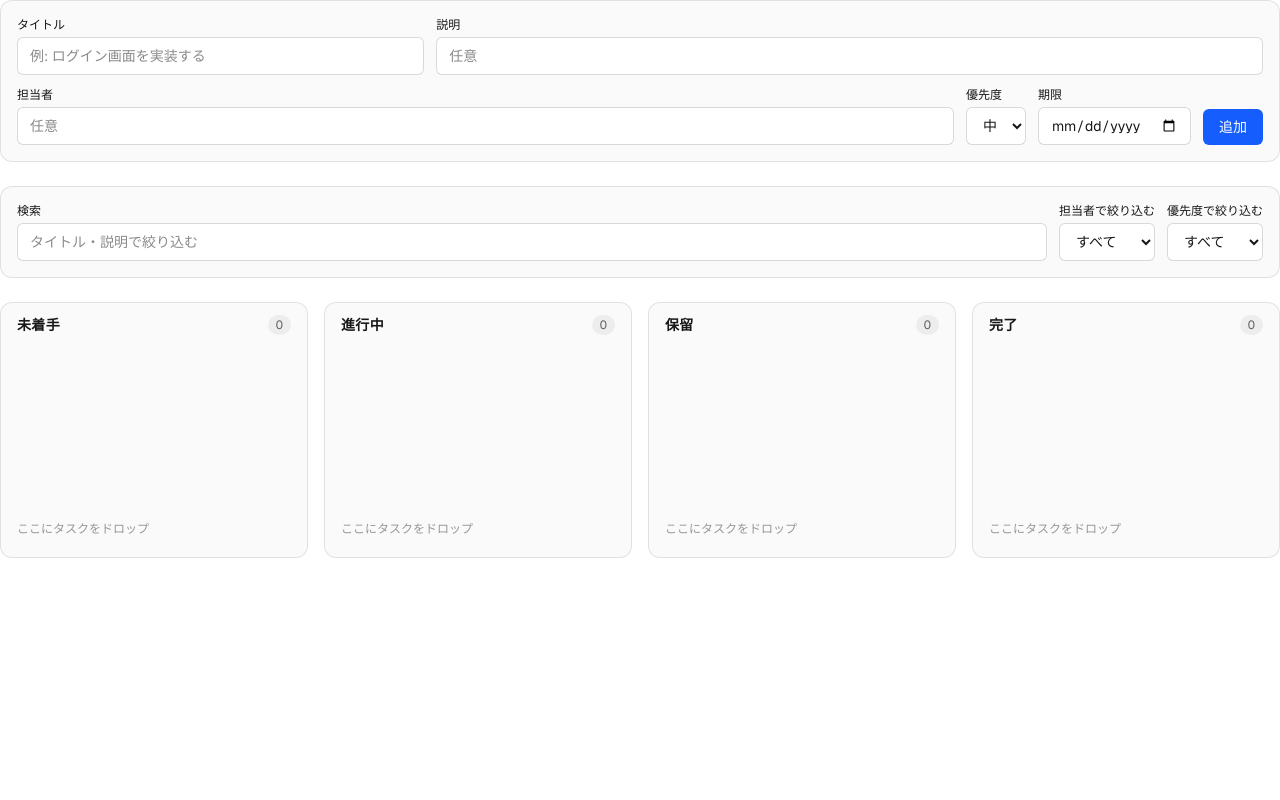
Board › 担当者・優先度・期限を入力して追加できる
This screenshot has width=1280, height=800.
Step 1. Type "テストを書く" into the field labelled "タイトル" → [221, 56], box [17,37,424,75]
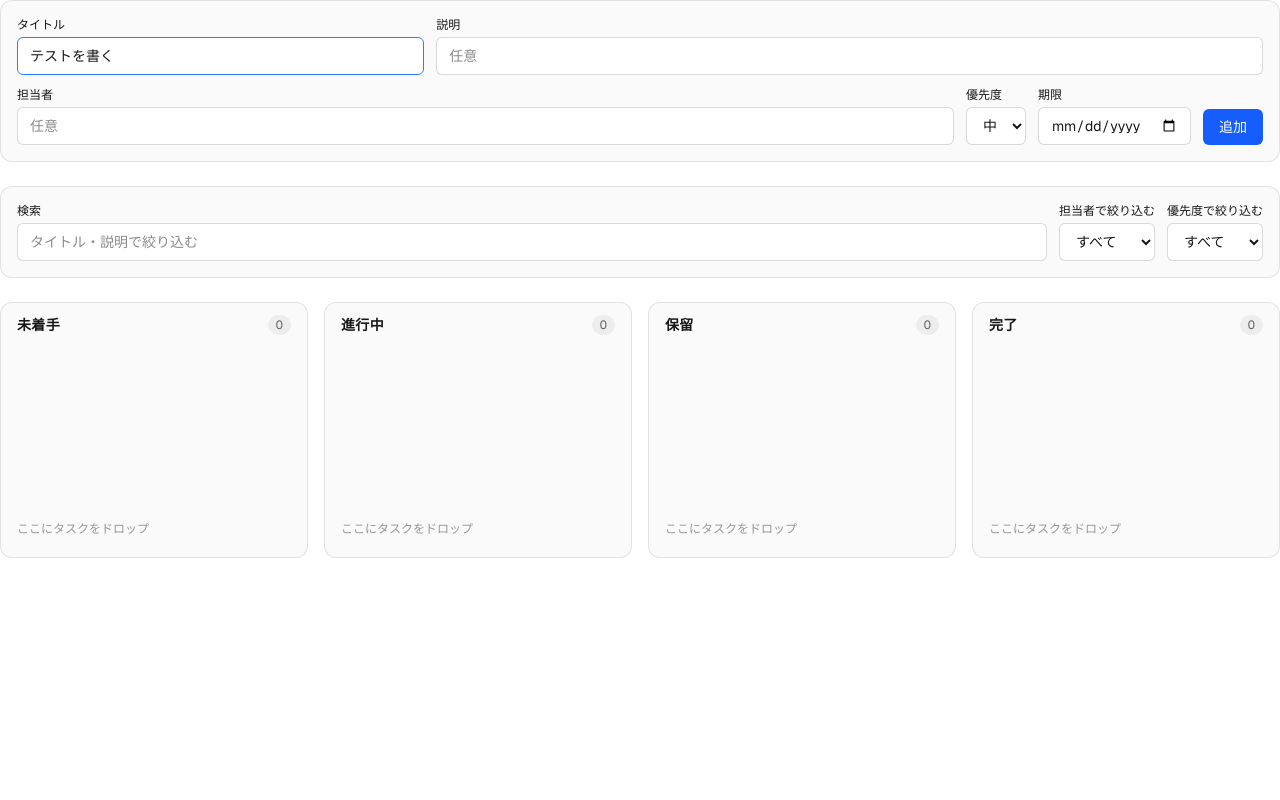
Step 2. Type "田中" into the field labelled "担当者" → [486, 126], box [17,107,954,145]
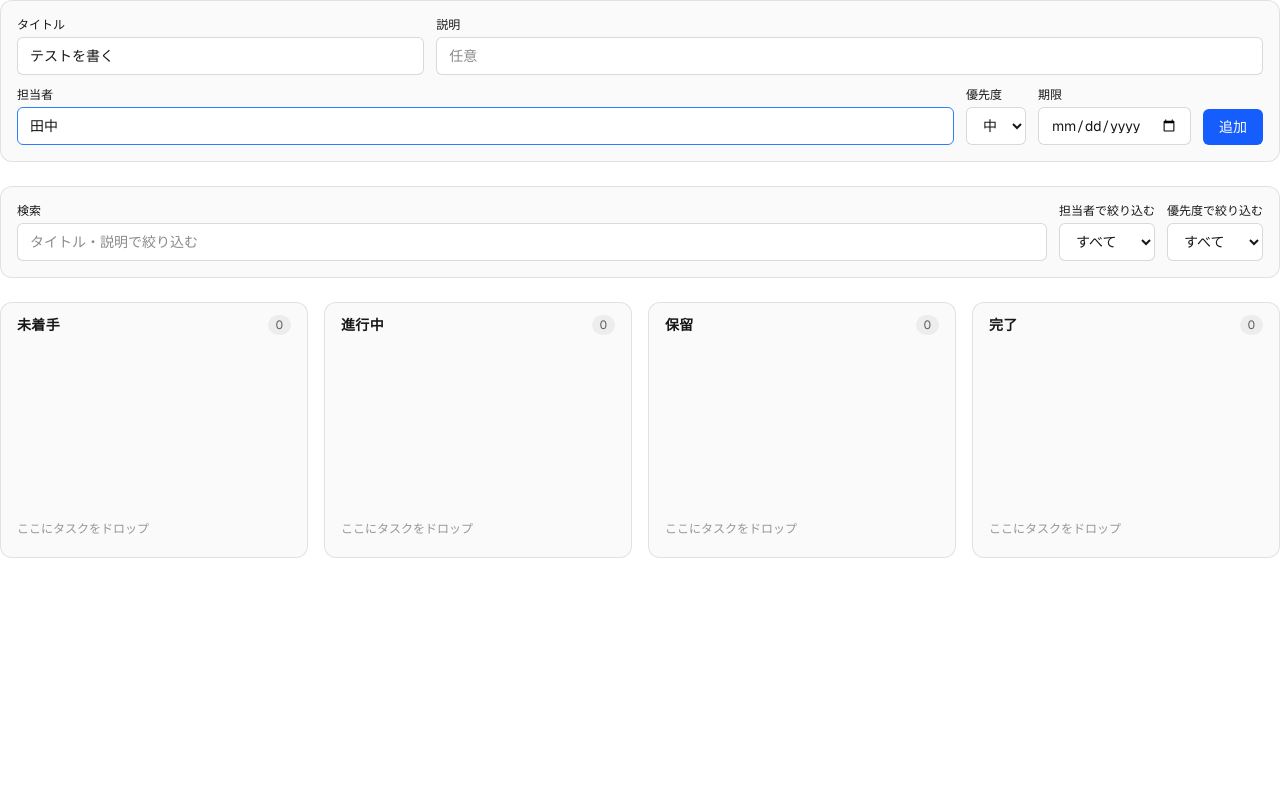
Step 3. Select "高" in the dropdown labelled "優先度" → [996, 126], box [966,107,1026,145]
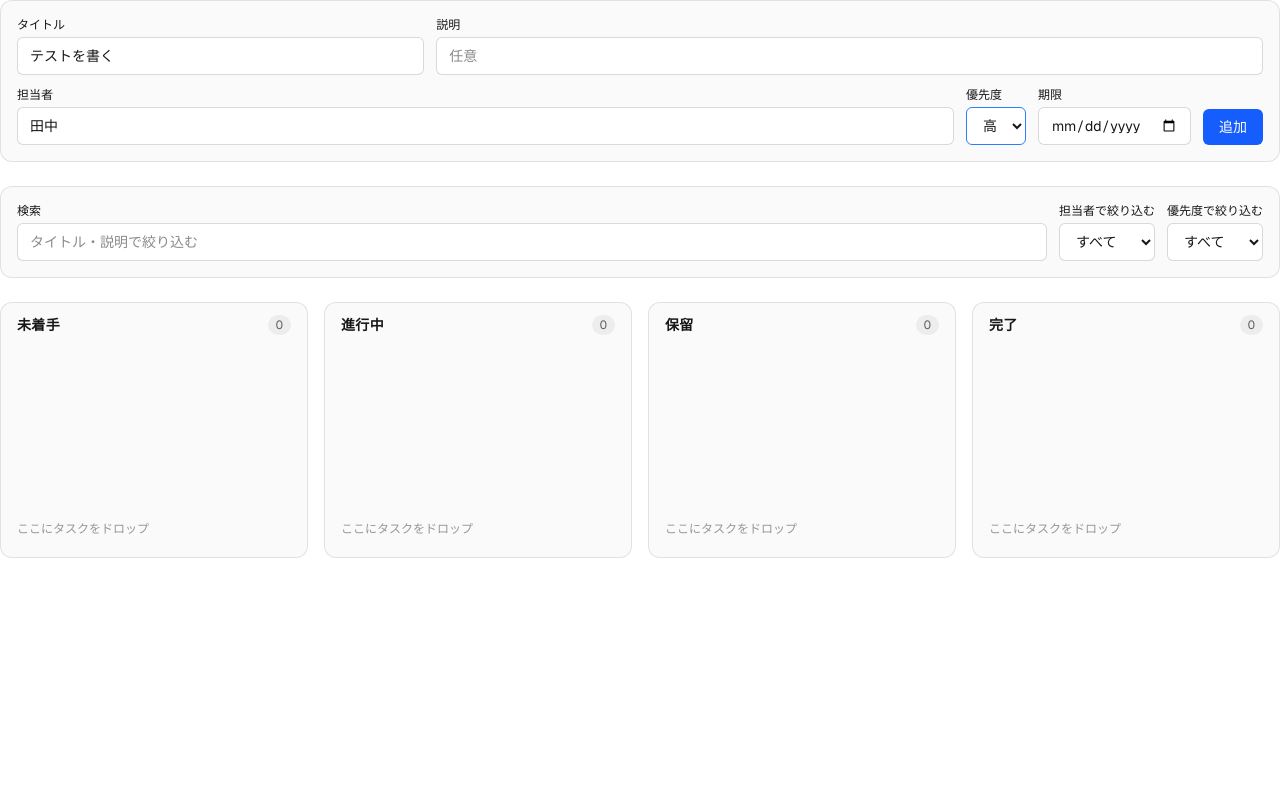
Step 4. Type "2026-08-25" into the date field labelled "期限" → [1114, 126], box [1038,107,1191,145]
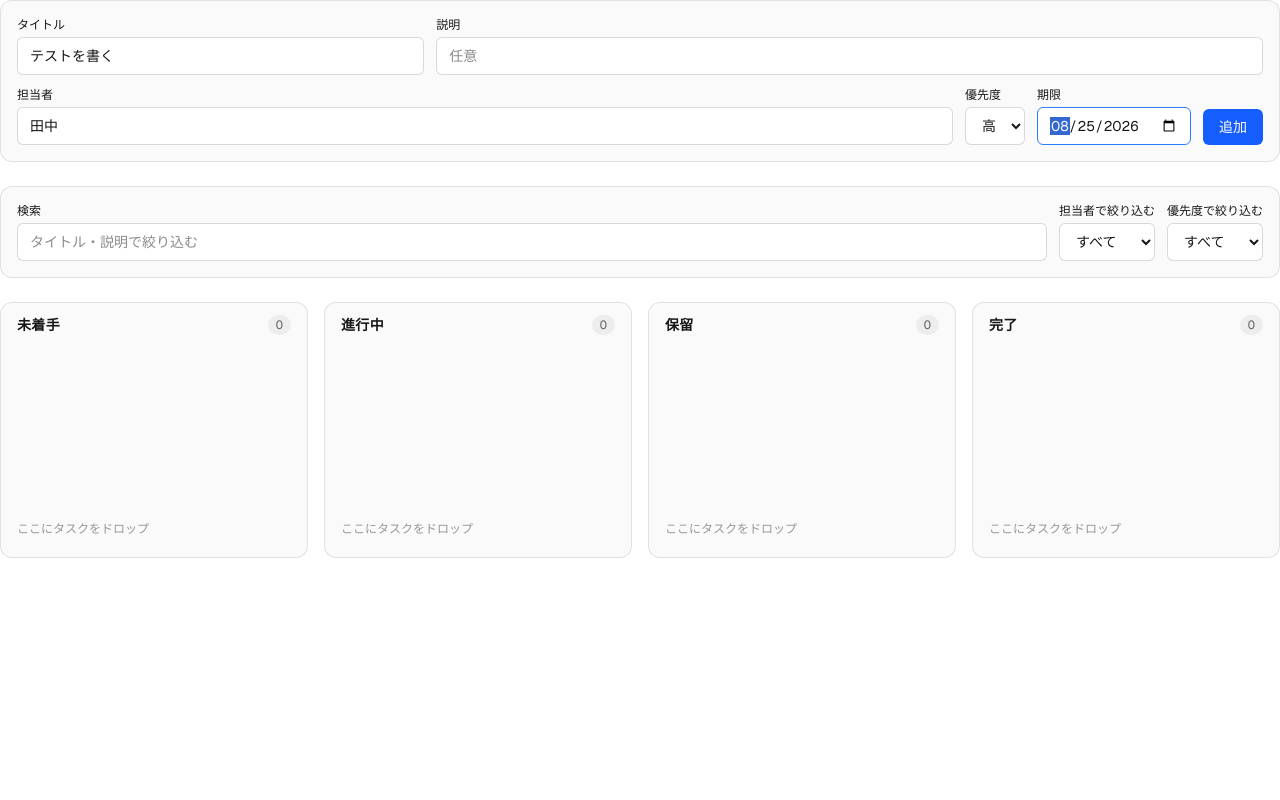
Step 5. Click the button "追加" → [1233, 127], box [1203,109,1263,145]
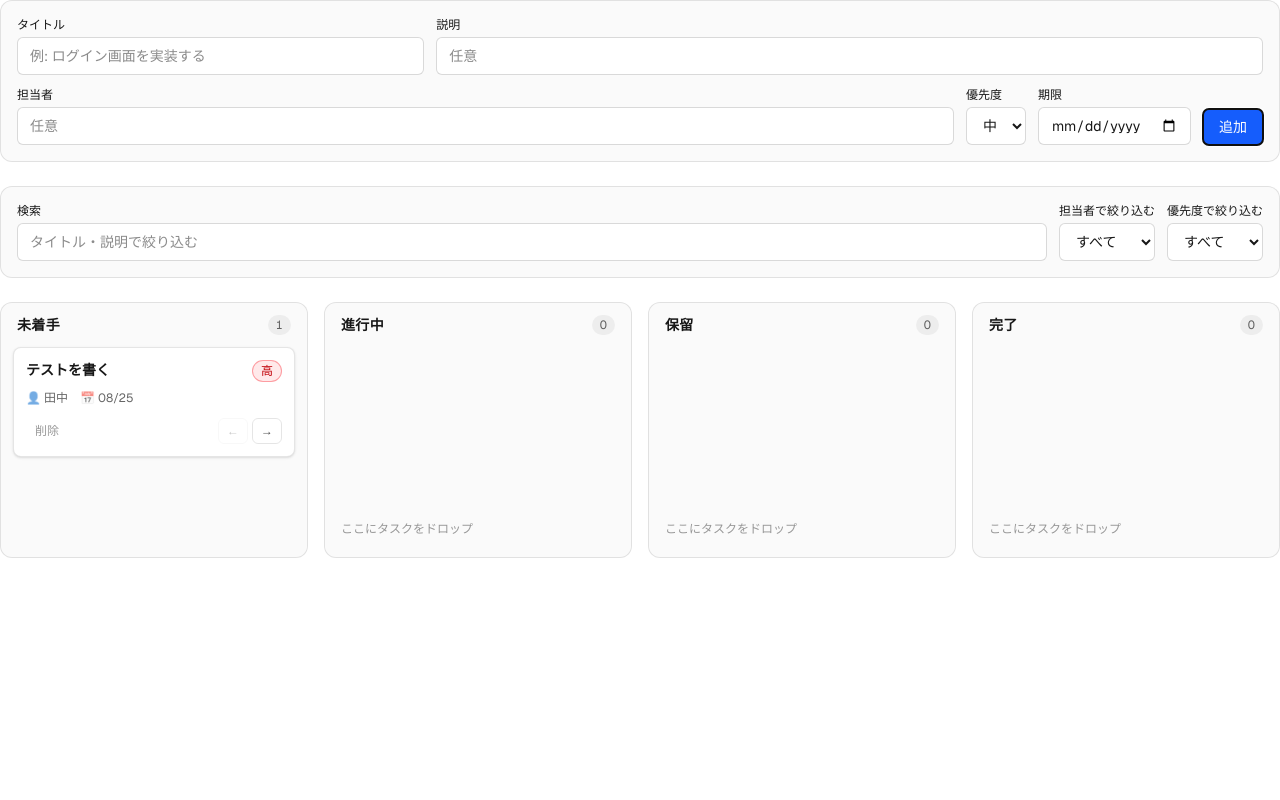
Result: the text named "担当者: 田中" is shown at [26,390,68,406]
Result: the text named "優先度: 高" is shown at [252,360,282,382]
Result: the text named "期限: 2026-08-25" shows "08/25" at [98,390,133,406]
